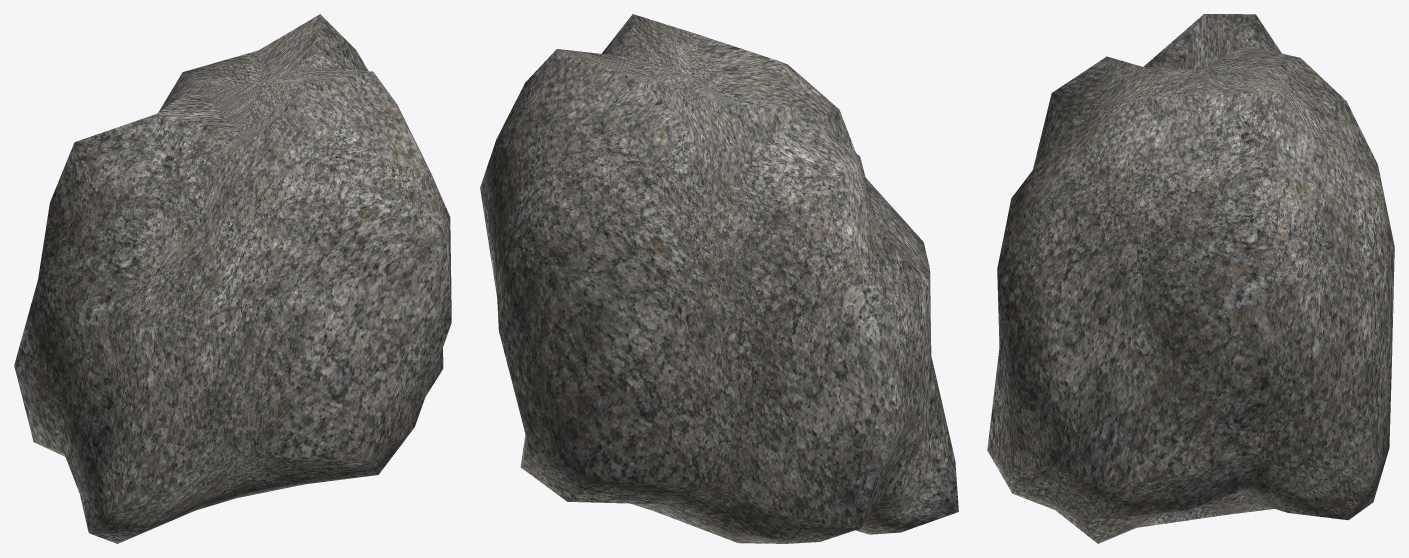
Rendered from granite-boulder.glb.
3 renders of one model, left to right at view 1: azimuth 30°, elevation 25°; view 2: azimuth 150°, elevation 25°; view 3: azimuth 270°, elevation 25°, orthographic. The views are drawn at different scales.
Visible parts, largest first — view 1: granite-boulder; view 2: granite-boulder; view 3: granite-boulder.
Boxes of the visible parts, <box> form: granite-boulder: <box>14,14,451,543</box>; granite-boulder: <box>480,14,958,543</box>; granite-boulder: <box>987,14,1394,543</box>.
Bounding box in the file's own units: 0.9028 × 0.9451 × 0.7166.
Materials: 1 (1 with a texture image).
